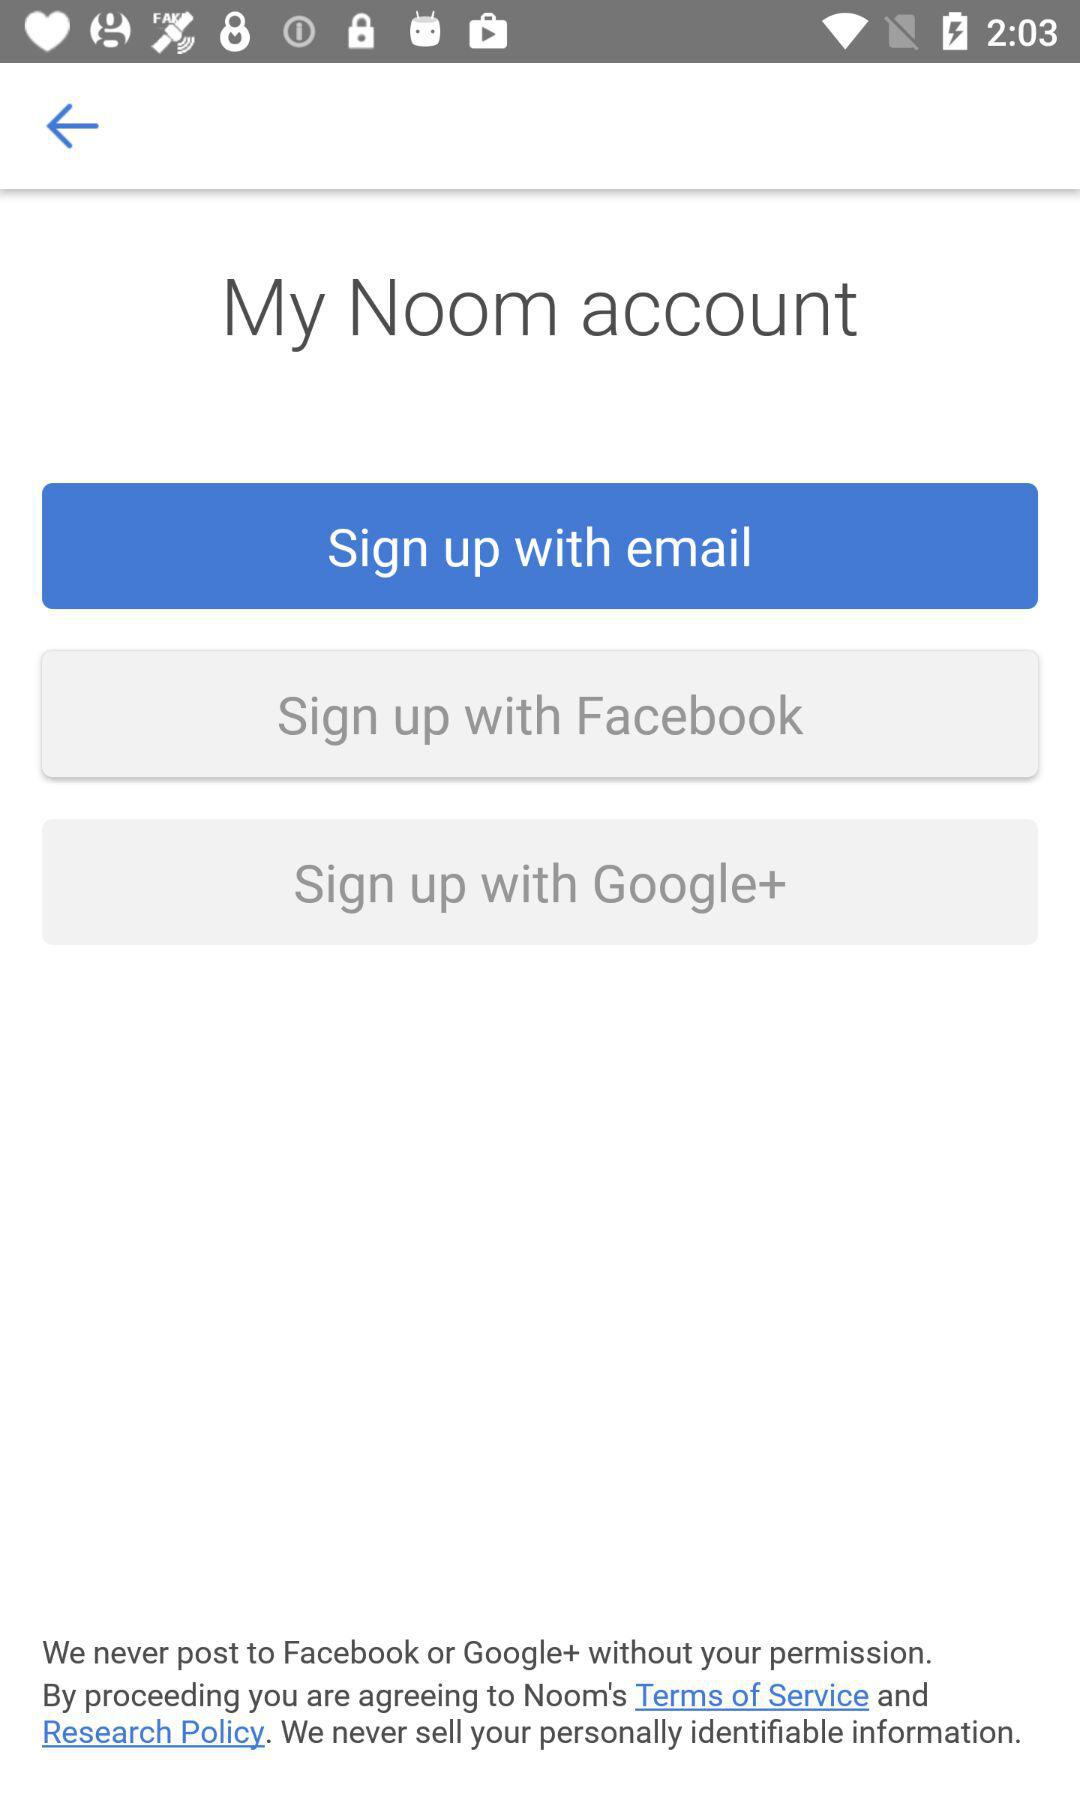Icon: (46, 103, 101, 151)
Text: (40, 1636, 1022, 1750), (225, 278, 858, 354)
TextButton: (42, 648, 1039, 780), (42, 818, 1039, 946), (42, 483, 1039, 610)
Toolbar: (1, 64, 1080, 190)
UpperTaskBar: (1, 1, 1080, 64)
